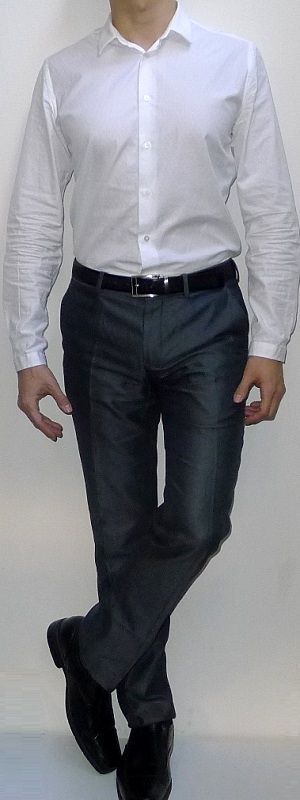F_belt: (61, 263, 239, 296)
F_dress pants: (55, 300, 246, 719)
F_shirt: (5, 23, 297, 365)
